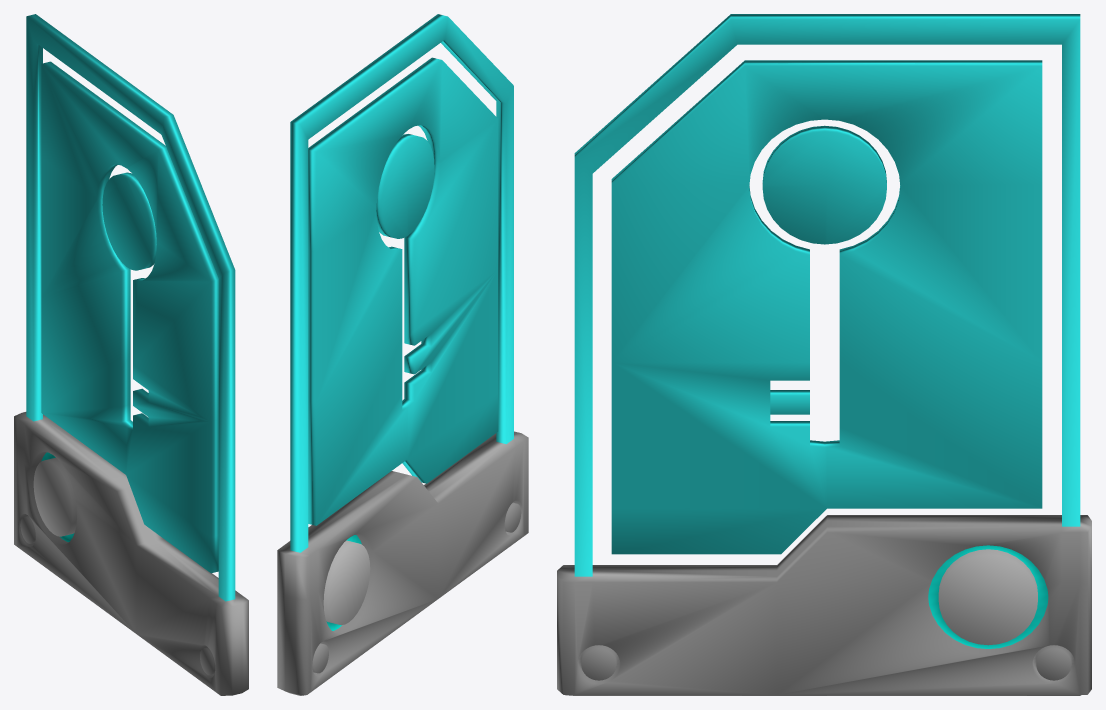
File: KeyCard.fbx
3 views of the same model, side by side, from view 1: azimuth 30°, elevation 25°; view 2: azimuth 150°, elevation 25°; view 3: azimuth 270°, elevation 25° (orthographic). The views are drawn at different scales.
Parts seen in each view (by area): view 1: Plane; view 2: Plane; view 3: Plane.
Part boxes in pixels (left/top/right/bottom): Plane: left=14, top=14, right=248, bottom=695; Plane: left=277, top=14, right=528, bottom=695; Plane: left=557, top=14, right=1091, bottom=695.
Size of the model in its own units: 22.3 by 405 by 291.
